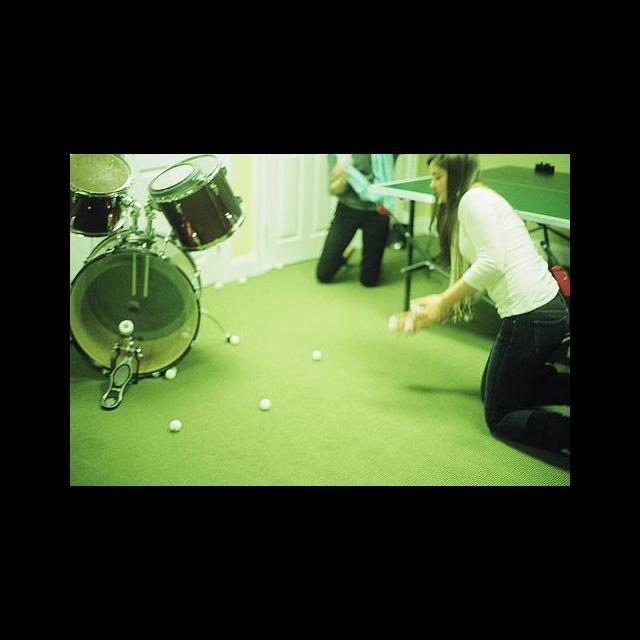ping-pong-ball: (168, 419, 184, 432), (388, 315, 399, 330), (260, 398, 272, 411), (410, 302, 423, 313), (165, 368, 176, 379), (230, 334, 240, 346), (404, 319, 414, 331), (312, 350, 323, 360), (238, 274, 247, 284), (214, 280, 223, 290), (263, 264, 272, 272), (393, 242, 402, 250), (276, 262, 284, 270)
